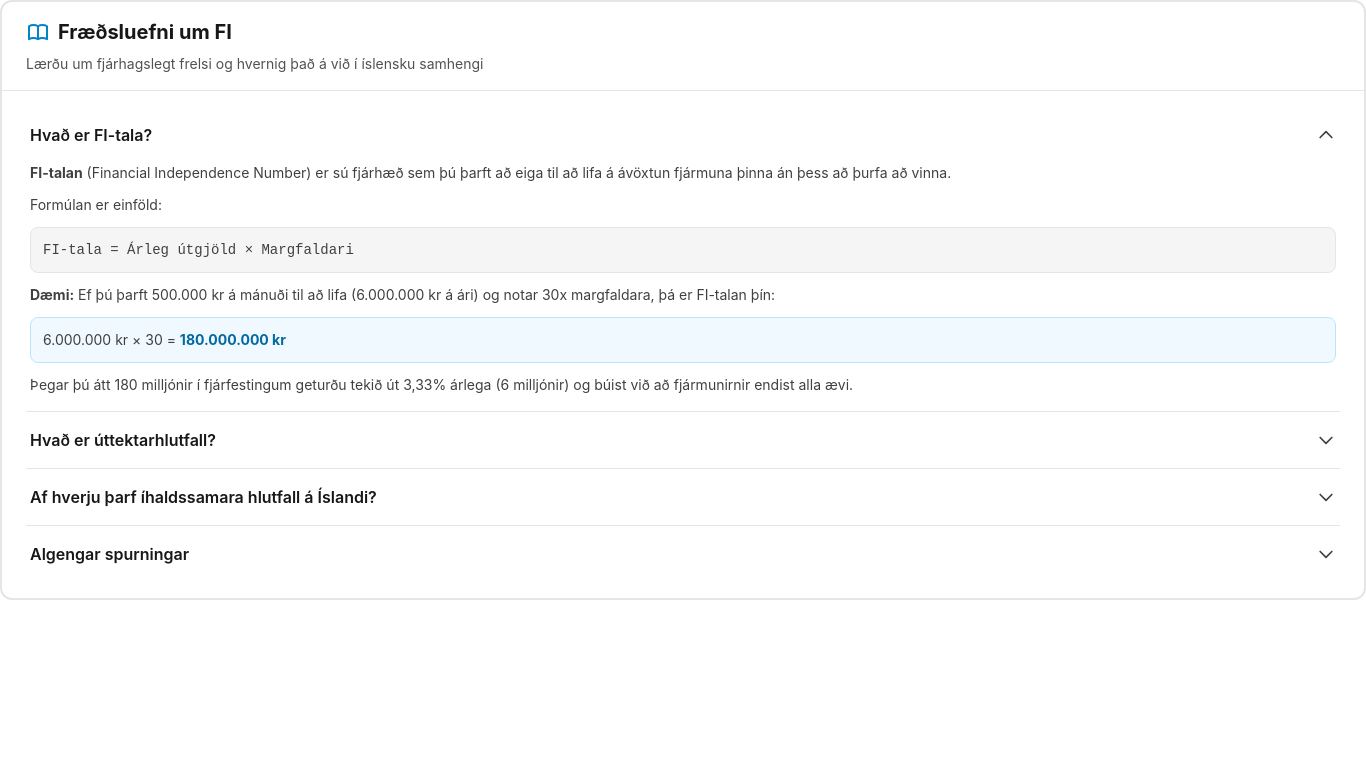
it: EducationalPanel › Collapsible Sections › can expand multiple sections at once
Expand section 2
What coordinates should you click on to do the following:
click the button "Hvað er úttektarhlutfall?"
I would click on:
 (123, 440)
Its box is [26,412,1340,468].
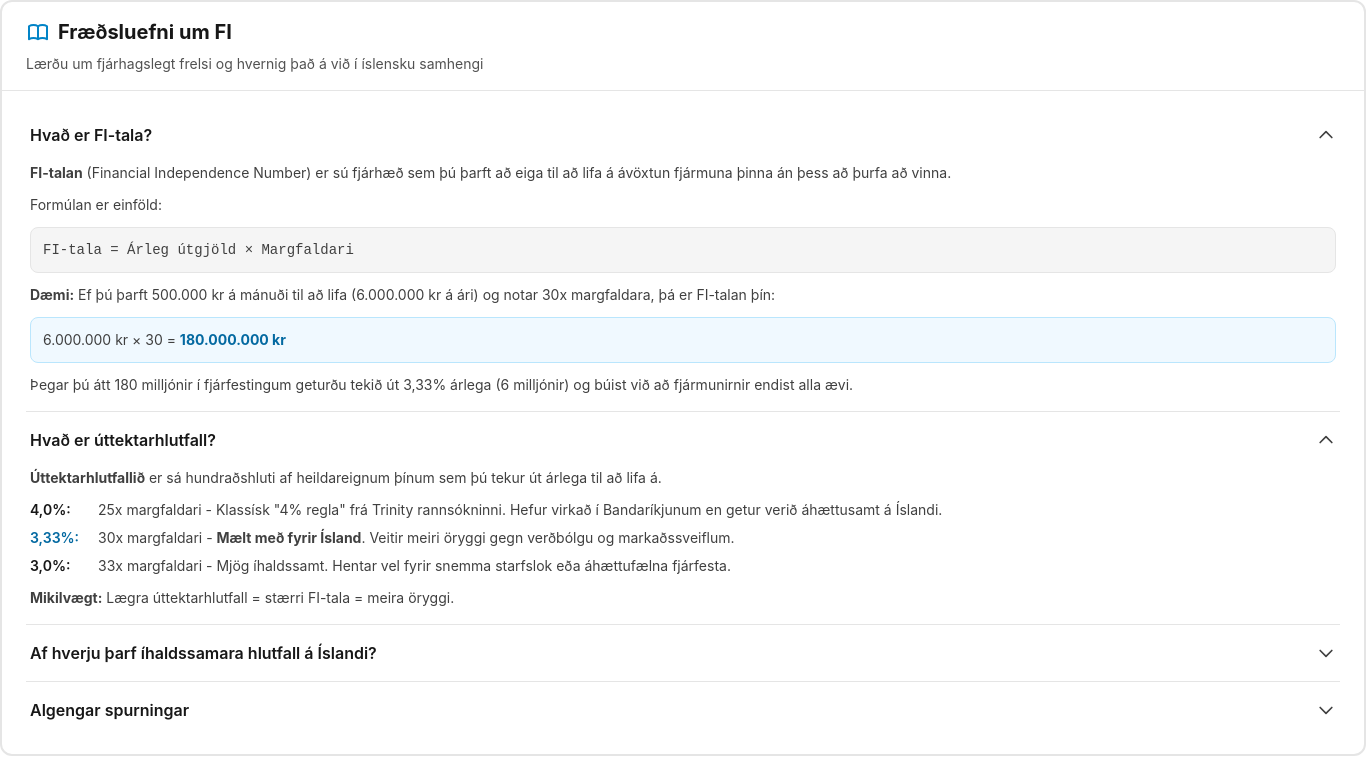
Expand section 3
What coordinates should you click on to do the following:
click the button "Af hverju þarf íhaldssamara hlutfall á Íslandi?"
I would click on:
 (203, 653)
Its box is [26,625,1340,681].
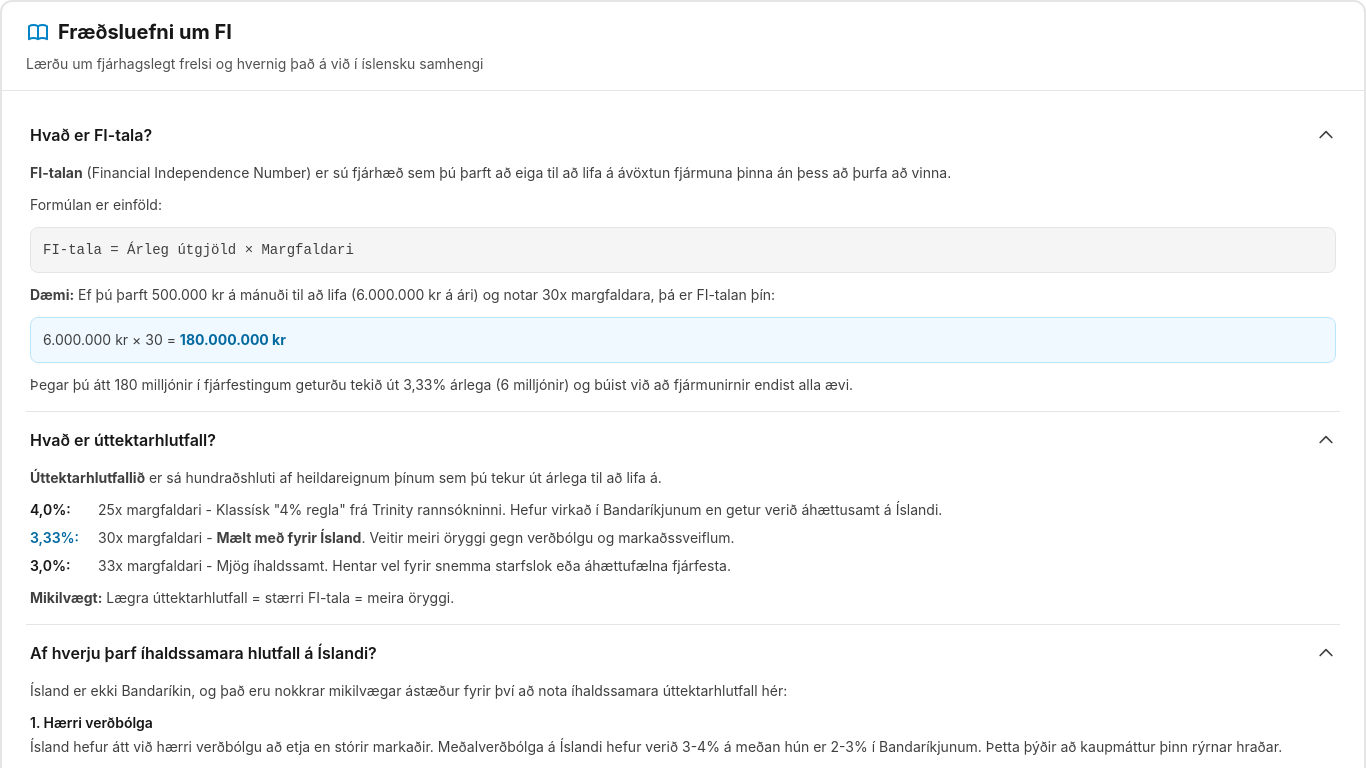
Expected: the text "Úttektarhlutfallið" is shown, [30,469,145,486]
Expected: the text "hundraðshluti" is shown, [145,469,662,486]
Expected: the text "Ísland er ekki Bandaríkin" is shown, [30,682,787,699]
